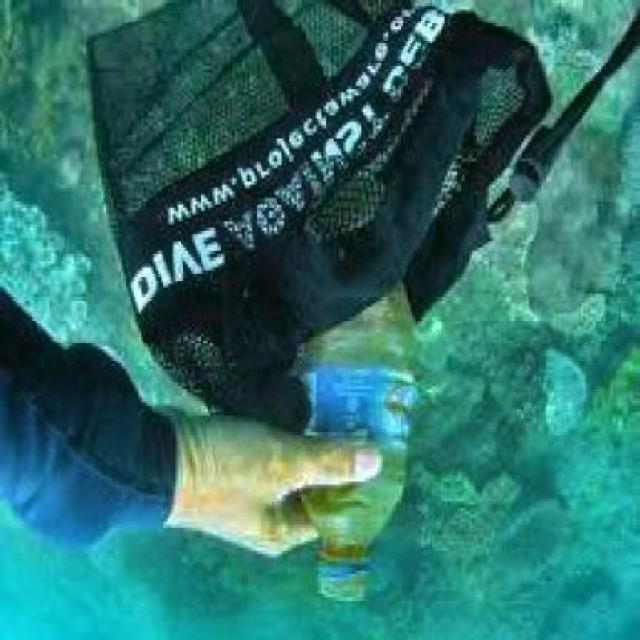pbottle: (288, 144, 418, 614)
